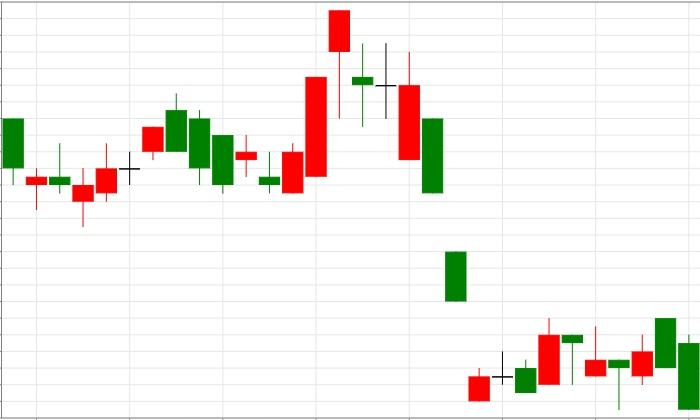hanging_man_fall: (259, 9, 350, 193)
